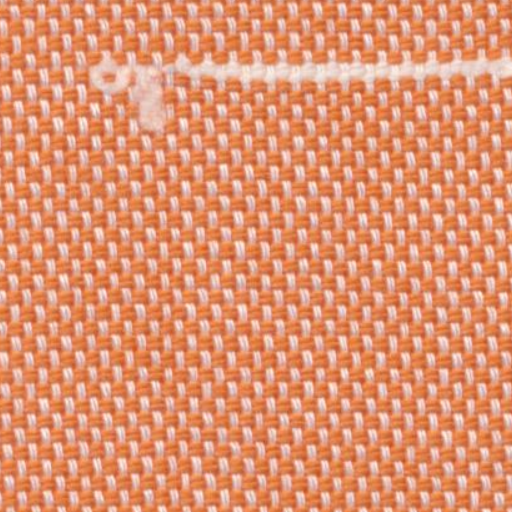DuanSha: (80, 50, 192, 143)
